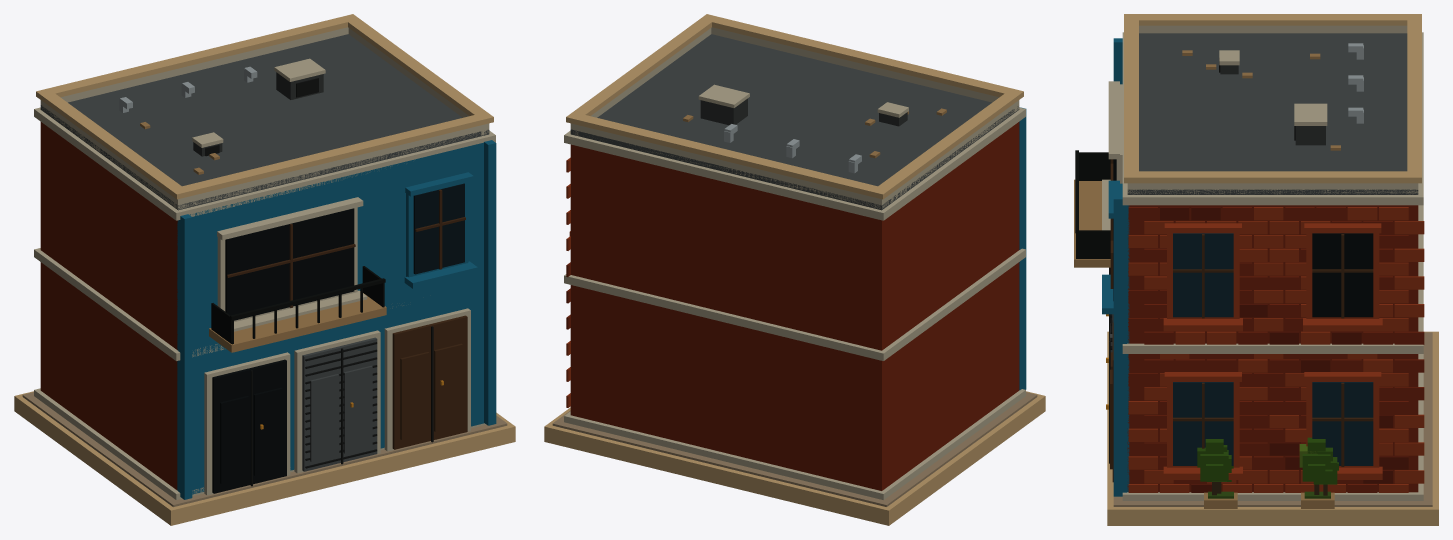
The model's file is SM_Mapa_042.fbx.
3 renders of one model, left to right at view 1: azimuth 30°, elevation 25°; view 2: azimuth 150°, elevation 25°; view 3: azimuth 270°, elevation 25°, orthographic. The views are drawn at different scales.
Visible parts, largest first — view 1: SM_Mapa_042; view 2: SM_Mapa_042; view 3: SM_Mapa_042.
Part boxes in pixels (box(x1,y1,x2,y2)): SM_Mapa_042: box(14, 14, 515, 525); SM_Mapa_042: box(544, 14, 1045, 525); SM_Mapa_042: box(1074, 14, 1438, 525).
Size of the model in its own units: 8 by 6.78 by 7.21.
